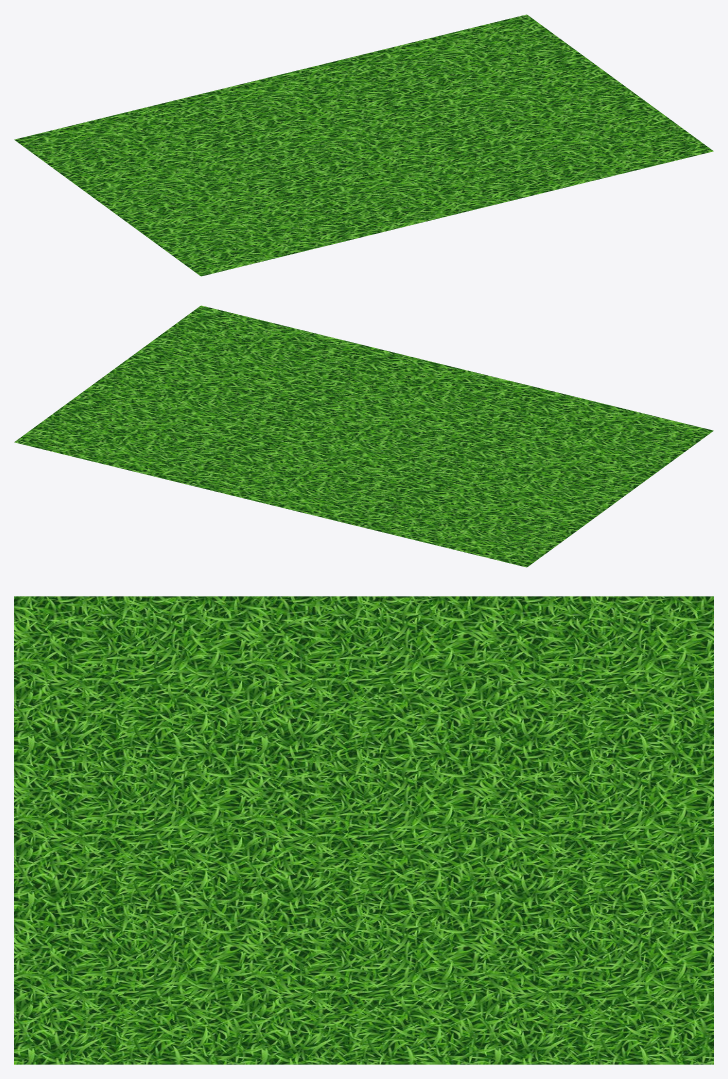
Rendered from grass.gltf.
3 views of the same model, one above another, from view 1: azimuth 30°, elevation 25°; view 2: azimuth 150°, elevation 25°; view 3: azimuth 270°, elevation 25° (orthographic). The views are drawn at different scales.
Visible parts, largest first — view 1: Plane; view 2: Plane; view 3: Plane.
Part boxes in pixels (x1,y1,x2,y2): Plane: (14, 14, 713, 276); Plane: (14, 305, 713, 567); Plane: (14, 596, 713, 1064).
Size of the model in its own units: 11.48 by 0 by 7.25.
1 material, 1 textured.
